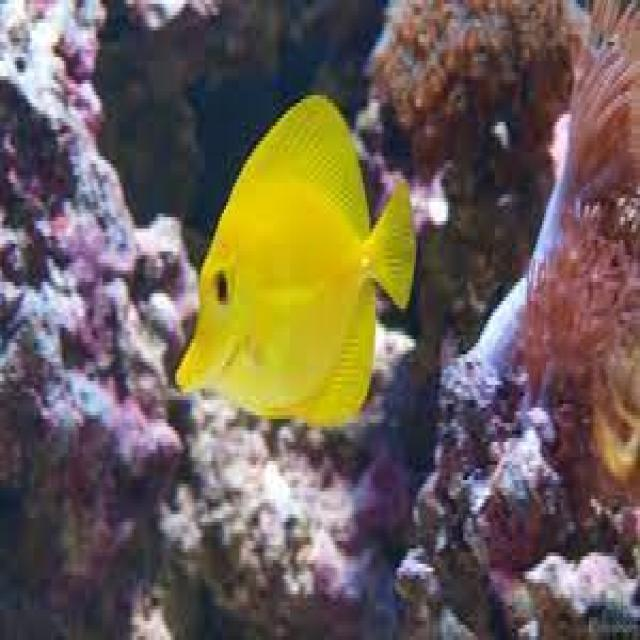TangFish: (173, 88, 415, 426)
